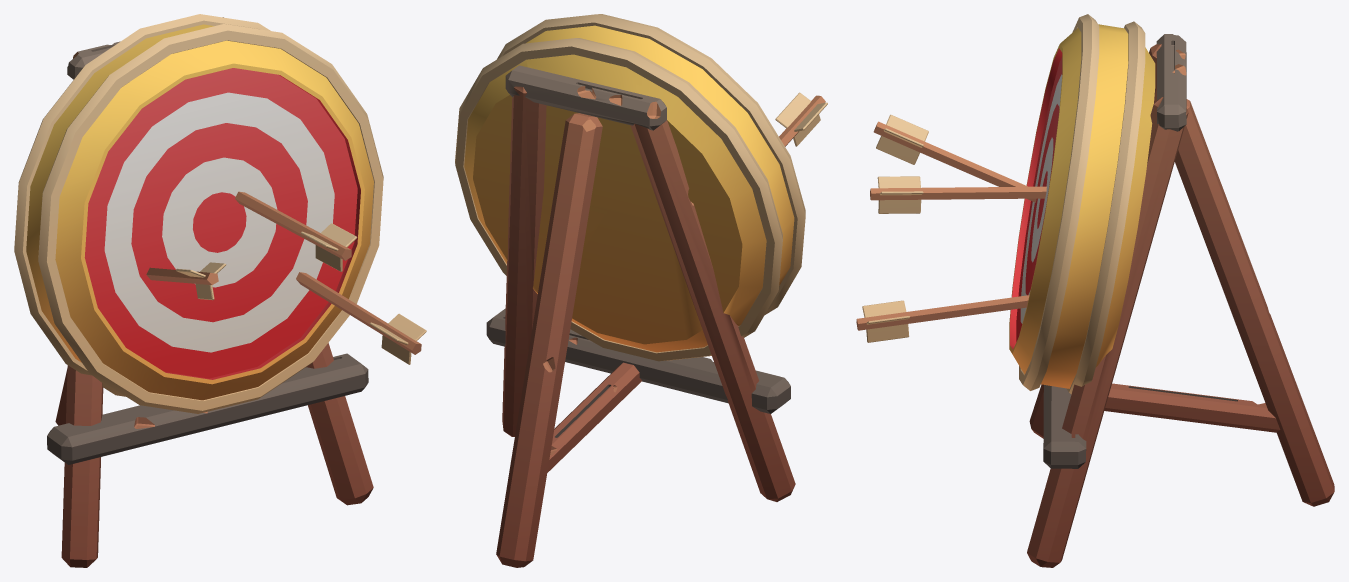
The model's file is archery_target.glb.
The picture shows the model from 3 angles, left to right: view 1: azimuth 30°, elevation 25°; view 2: azimuth 150°, elevation 25°; view 3: azimuth 270°, elevation 25°; orthographic projection. The views are drawn at different scales.
Visible parts, largest first — view 1: archery_target; view 2: archery_target; view 3: archery_target.
Boxes of the visible parts, x1,y1,x2,y2 form: archery_target: (14,14,426,567); archery_target: (455,14,827,567); archery_target: (856,14,1334,567).
Bounding box in the file's own units: 1.8 × 2.43 × 2.25.
Materials: 1 (1 with a texture image).
